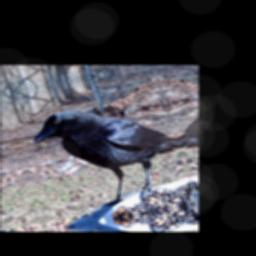Crow: (25, 93, 195, 217)
